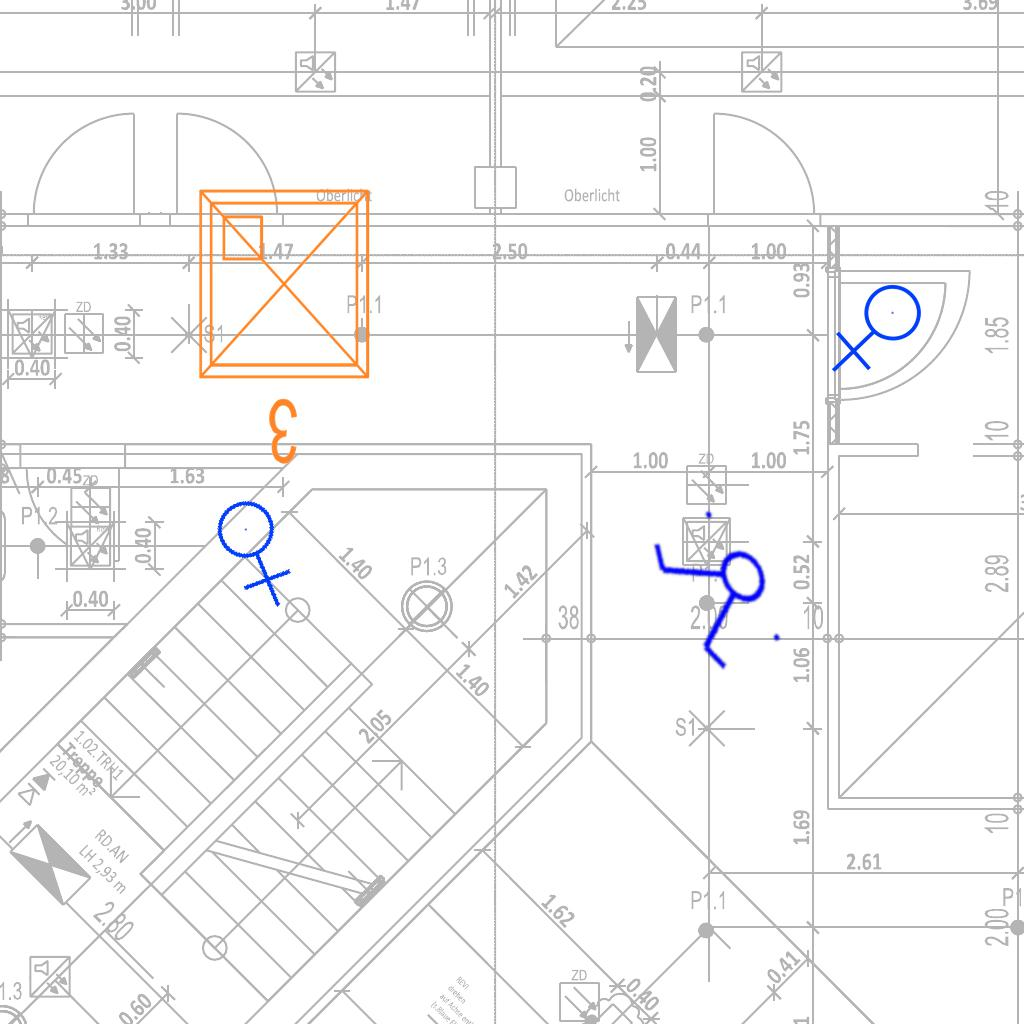Einbaudownlights_LED_Konferenzraeume: (184, 175, 392, 475)
Elektroanschluss_allgemein_230V_Geraeteanschlussdose_230V: (195, 483, 320, 611), (831, 283, 930, 377)
Serienschalter: (638, 493, 804, 687)
